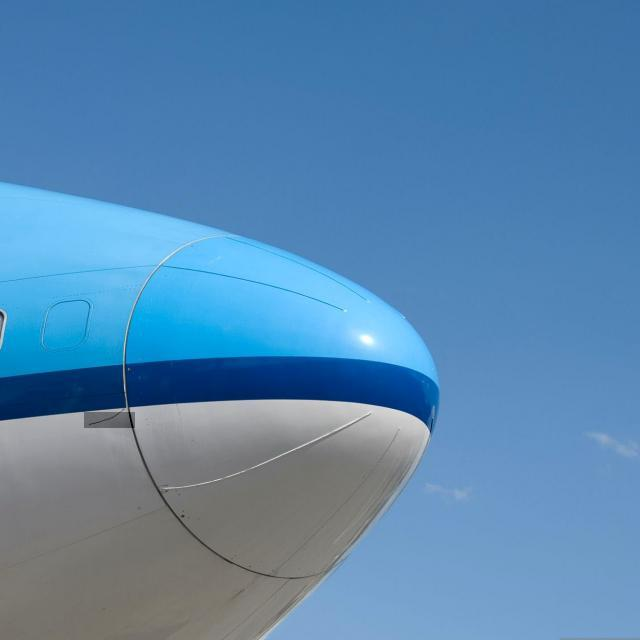crack: (85, 413, 136, 430)
